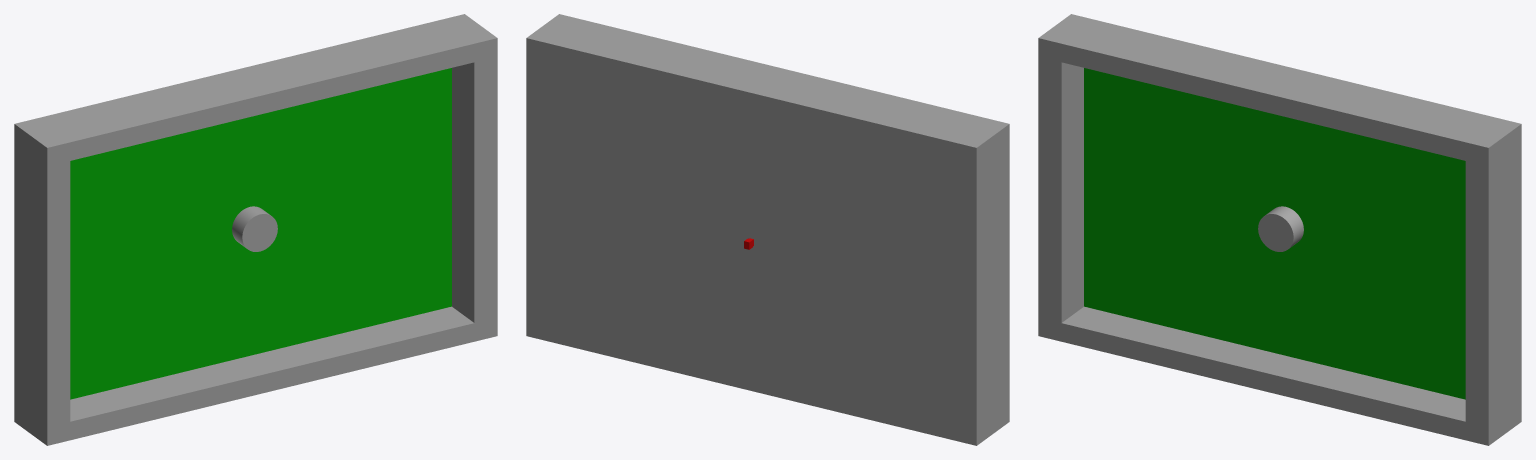
The model's file is omino.obj.
The picture shows the model from 3 angles, left to right: view 1: azimuth 30°, elevation 25°; view 2: azimuth 150°, elevation 25°; view 3: azimuth 330°, elevation 25°; orthographic projection.
Visible parts, largest first — view 1: Campo, Stecca; view 2: Campo; view 3: Campo, Stecca.
Boxes of the visible parts, x1,y1,x2,y2 form: Campo: [14, 14, 497, 445]; Stecca: [232, 206, 277, 251]; Campo: [526, 14, 1009, 445]; Campo: [1038, 14, 1521, 445]; Stecca: [1258, 206, 1303, 251].
Bounding box in the file's own units: 1.26 × 0.8 × 0.1832.
